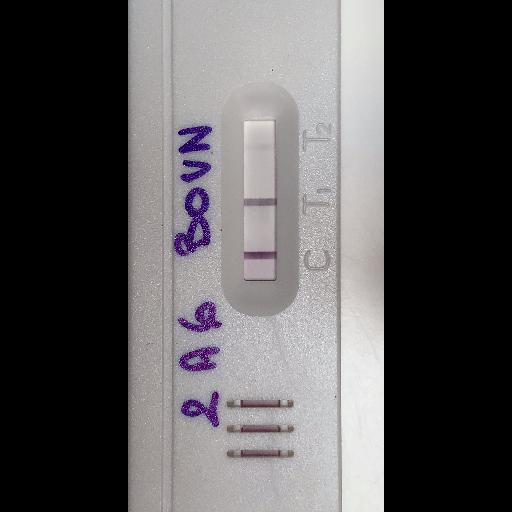Pos: (128, 0, 340, 508)
